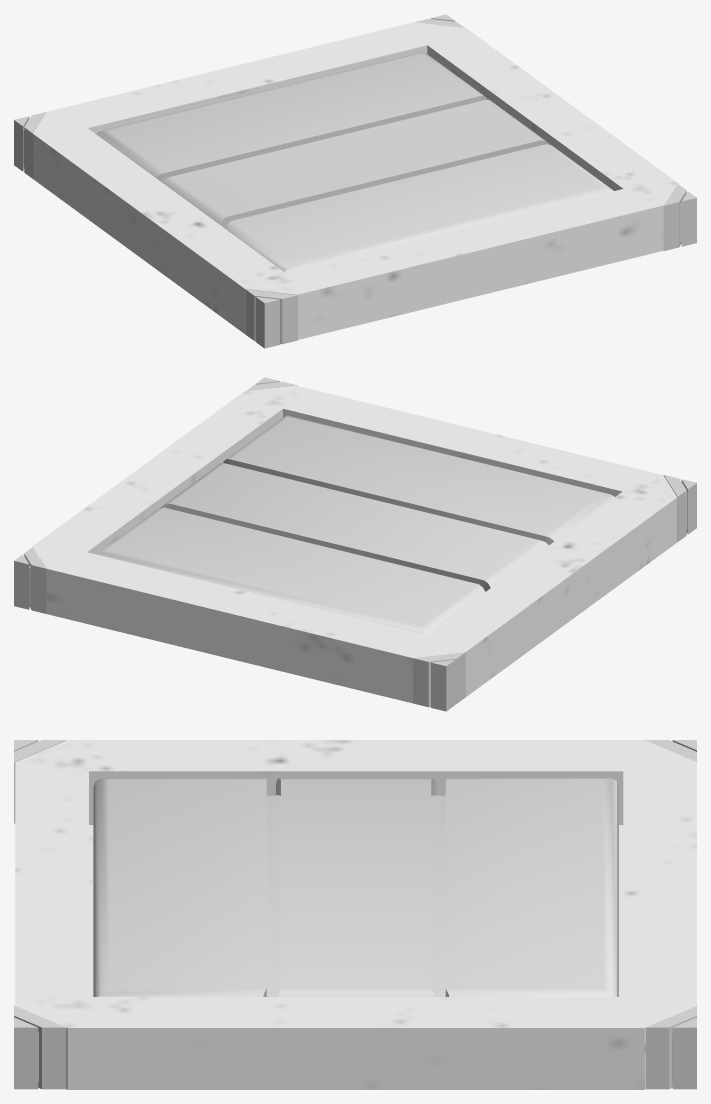
Rendered from floor2.fbx.
3 views of the same model, one above another, from view 1: azimuth 30°, elevation 25°; view 2: azimuth 150°, elevation 25°; view 3: azimuth 270°, elevation 25° (orthographic). The views are drawn at different scales.
Parts seen in each view (by area): view 1: flooriron.003; view 2: flooriron.003; view 3: flooriron.003.
Boxes of the visible parts, x1,y1,x2,y2 form: flooriron.003: (14, 14, 696, 348); flooriron.003: (14, 377, 696, 711); flooriron.003: (14, 740, 696, 1089).
Size of the model in its own units: 4 by 0.4 by 4.01.
